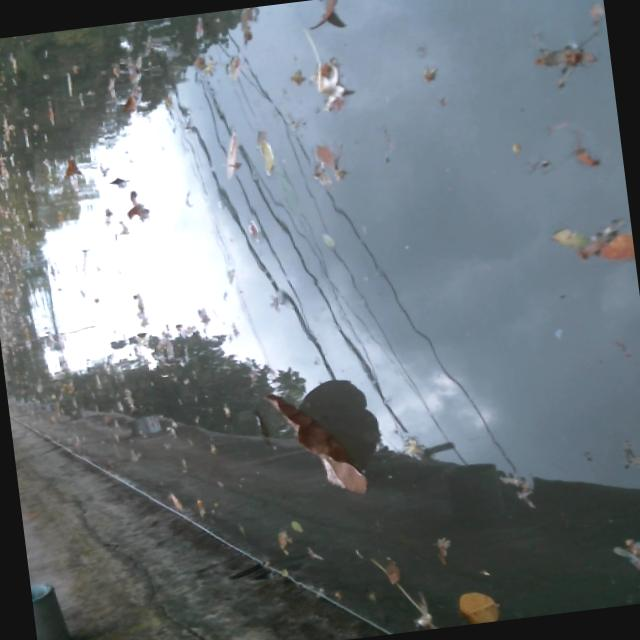Big-leaf: (254, 374, 378, 508)
Small-leaf: (300, 51, 357, 121), (449, 579, 503, 626), (525, 39, 592, 76), (210, 123, 244, 180), (588, 228, 635, 267), (302, 0, 353, 35), (248, 122, 280, 177), (544, 221, 588, 254), (614, 525, 640, 579), (127, 288, 153, 333), (120, 187, 147, 229), (111, 84, 144, 118), (571, 138, 604, 172), (376, 550, 402, 590), (314, 138, 340, 176), (37, 90, 61, 130), (268, 522, 293, 559), (187, 11, 212, 48), (427, 531, 452, 567), (190, 51, 220, 81), (157, 489, 189, 516), (52, 152, 80, 181), (100, 169, 130, 192), (191, 300, 213, 328), (282, 513, 307, 537), (318, 226, 338, 253), (630, 439, 640, 474)
